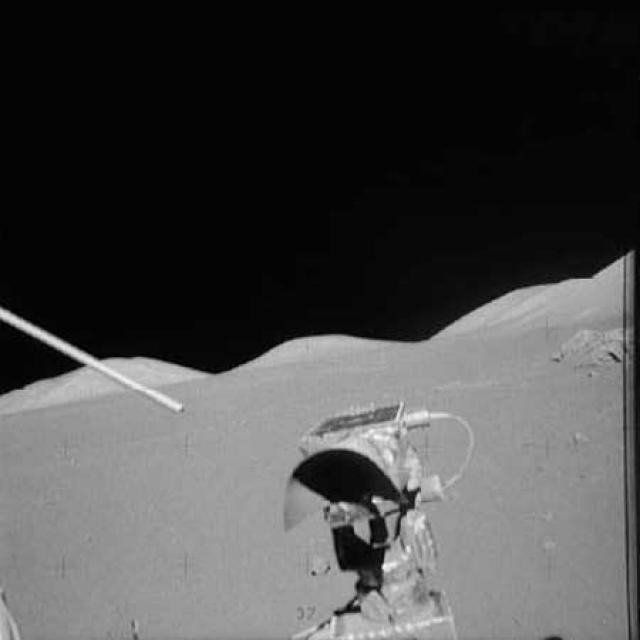artifact: (263, 396, 479, 638), (2, 292, 190, 423)
rock: (548, 316, 638, 381)
